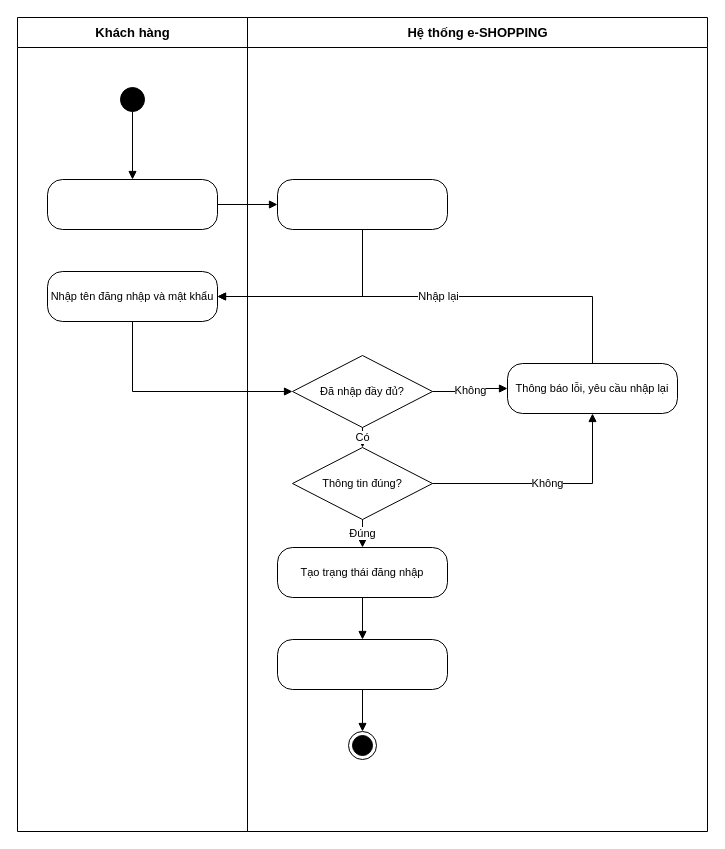
The diagram is 725 pixels wide and 849 high, and some of its shapes have lost their labels. The centre of each missing label's shape, as x and y in pixels:
"Cho phép tiếp tục đặt hàng" belongs at point (362, 664).
"Chọn Đăng nhập" belongs at point (132, 204).
"Hiển thị biểu mẫu đăng nhập" belongs at point (362, 204).
